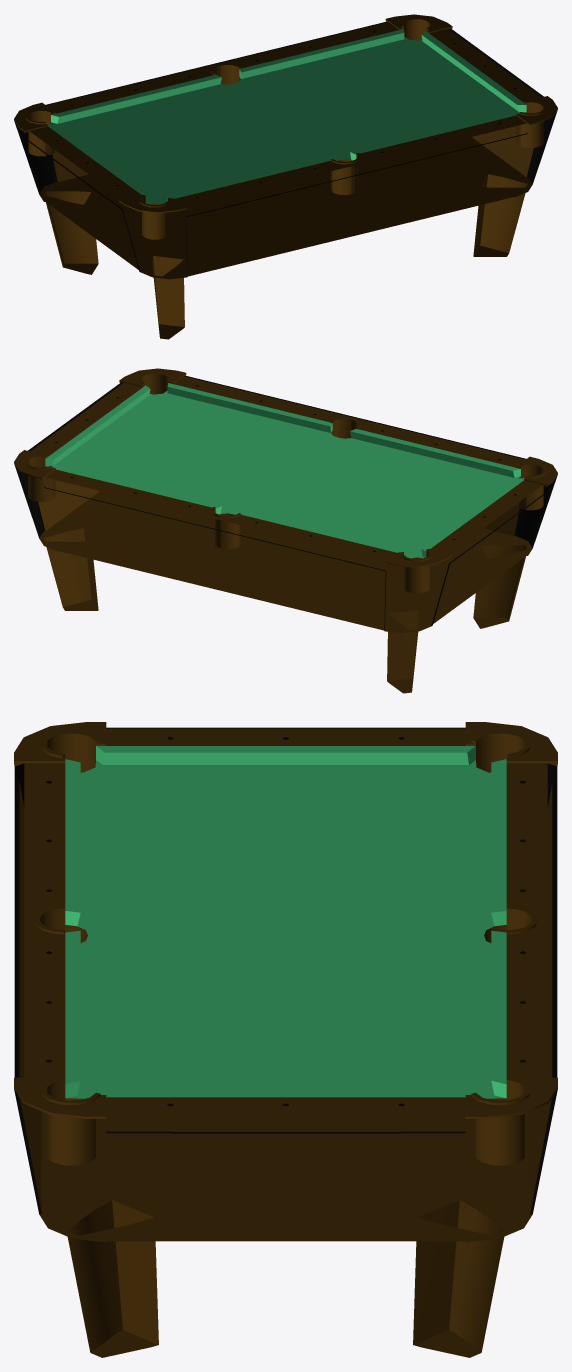
The model's file is pooltable_a02.dae.
3 views of the same model, one above another, from view 1: azimuth 30°, elevation 25°; view 2: azimuth 150°, elevation 25°; view 3: azimuth 270°, elevation 25° (orthographic). The views are drawn at different scales.
Visible parts, largest first — view 1: gruenflaeche, seitenflaechen, holztop, bein (×3), ID775; view 2: gruenflaeche, seitenflaechen, holztop, bein (×3), ID775; view 3: gruenflaeche, seitenflaechen, holztop, bein (×2), ID775.
Part boxes in pixels (x1,y1,x2,y2): gruenflaeche: [47, 29, 526, 204]; seitenflaechen: [39, 126, 533, 279]; holztop: [14, 14, 557, 239]; bein (×3): [44, 174, 527, 339]; ID775: [14, 22, 557, 276]; gruenflaeche: [45, 383, 524, 558]; seitenflaechen: [38, 480, 532, 633]; holztop: [14, 368, 557, 593]; bein (×3): [44, 528, 527, 693]; ID775: [14, 376, 557, 630]; gruenflaeche: [65, 746, 506, 1098]; seitenflaechen: [19, 782, 552, 1242]; holztop: [14, 722, 557, 1165]; bein (×2): [67, 1200, 504, 1357]; ID775: [14, 727, 557, 1213].
Size of the model in its own units: 231 by 76.44 by 135.
